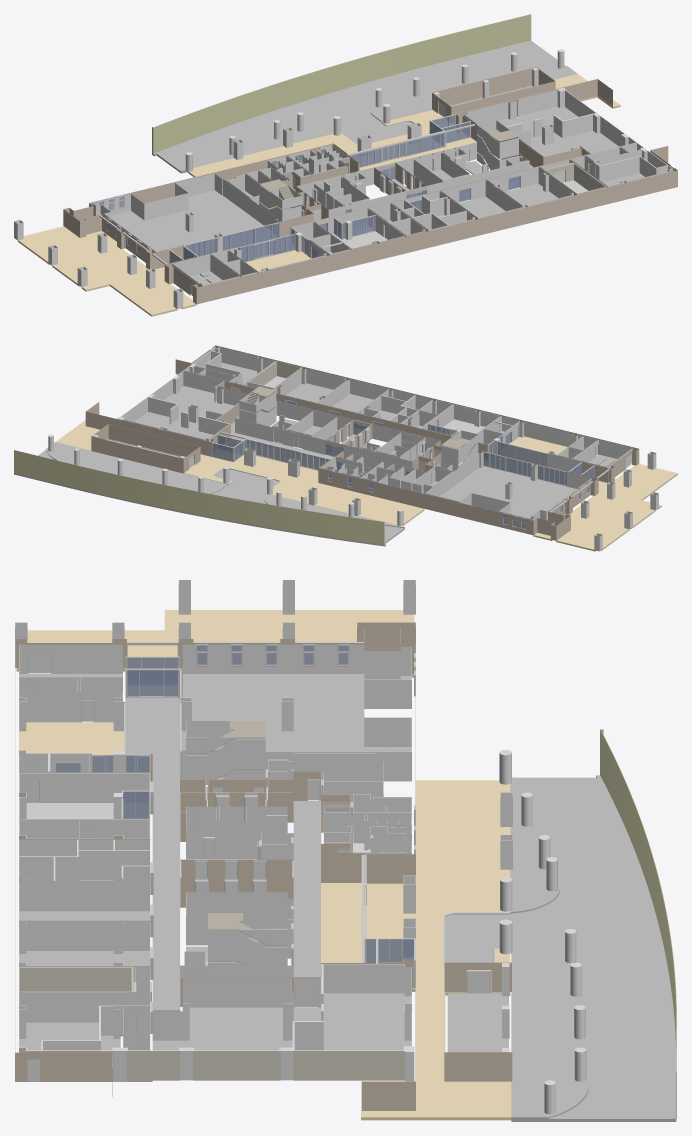
The picture shows the model from 3 angles, top to bottom: view 1: azimuth 30°, elevation 25°; view 2: azimuth 150°, elevation 25°; view 3: azimuth 270°, elevation 25°; orthographic projection. The views are drawn at different scales.
Visible parts, largest first — view 1: A8_B1F_Wall, A8_B1F_Out_Wall, A8_B1F_Out_Floor, A8_B1F_Floor, A8_B1F_Pillar, A8_B1F_Glass, A8_B1F_Frame, A8_B1F_Slide Glass Door, A8_B1F_Door, A8_B1F_Glass Door, A8_B1F_Stairs, A8_B1F_Shutter frame (+1 smaller); view 2: A8_B1F_Wall, A8_B1F_Out_Wall, A8_B1F_Out_Floor, A8_B1F_Floor, A8_B1F_Pillar, A8_B1F_Glass, A8_B1F_Frame, A8_B1F_Door, A8_B1F_Slide Glass Door, A8_B1F_Stairs, A8_B1F_Glass Door, A8_B1F_Elev (+2 smaller); view 3: A8_B1F_Wall, A8_B1F_Out_Floor, A8_B1F_Floor, A8_B1F_Out_Wall, A8_B1F_Pillar, A8_B1F_Door, A8_B1F_Glass, A8_B1F_Frame, A8_B1F_Elev, A8_B1F_Stairs, A8_B1F_Window, A8_B1F_Glass Door (+2 smaller).
Part boxes in pixels (box(x1,y1,x2,y2)): A8_B1F_Wall: box(92, 89, 672, 294); A8_B1F_Out_Wall: box(63, 14, 677, 304); A8_B1F_Out_Floor: box(18, 40, 620, 316); A8_B1F_Floor: box(111, 106, 644, 285); A8_B1F_Pillar: box(14, 49, 647, 309); A8_B1F_Glass: box(169, 115, 469, 263); A8_B1F_Frame: box(169, 114, 470, 262); A8_B1F_Slide Glass Door: box(173, 116, 459, 262); A8_B1F_Door: box(191, 102, 667, 295); A8_B1F_Glass Door: box(212, 162, 520, 258); A8_B1F_Stairs: box(260, 129, 518, 210); A8_B1F_Shutter frame: box(99, 124, 474, 268); A8_B1F_Wall: box(120, 347, 632, 520); A8_B1F_Out_Wall: box(14, 345, 639, 546); A8_B1F_Out_Floor: box(14, 420, 677, 551); A8_B1F_Floor: box(134, 362, 616, 527); A8_B1F_Pillar: box(48, 364, 658, 551); A8_B1F_Glass: box(212, 424, 594, 485); A8_B1F_Frame: box(211, 424, 594, 486); A8_B1F_Door: box(189, 355, 631, 485); A8_B1F_Slide Glass Door: box(217, 420, 590, 476); A8_B1F_Stairs: box(240, 386, 472, 464); A8_B1F_Glass Door: box(285, 400, 542, 479); A8_B1F_Elev: box(282, 422, 431, 458); A8_B1F_Wall: box(19, 644, 411, 1081); A8_B1F_Out_Floor: box(16, 610, 676, 1121); A8_B1F_Floor: box(19, 674, 415, 1050); A8_B1F_Out_Wall: box(15, 622, 676, 1118); A8_B1F_Pillar: box(15, 580, 586, 1114); A8_B1F_Door: box(20, 652, 490, 1081); A8_B1F_Glass: box(105, 658, 413, 962); A8_B1F_Frame: box(92, 656, 415, 988); A8_B1F_Elev: box(194, 795, 266, 892); A8_B1F_Stairs: box(186, 721, 287, 965); A8_B1F_Window: box(196, 644, 415, 854); A8_B1F_Glass Door: box(55, 755, 352, 979).
Bounding box in the file's own units: 104 × 6.45 × 57.29.
